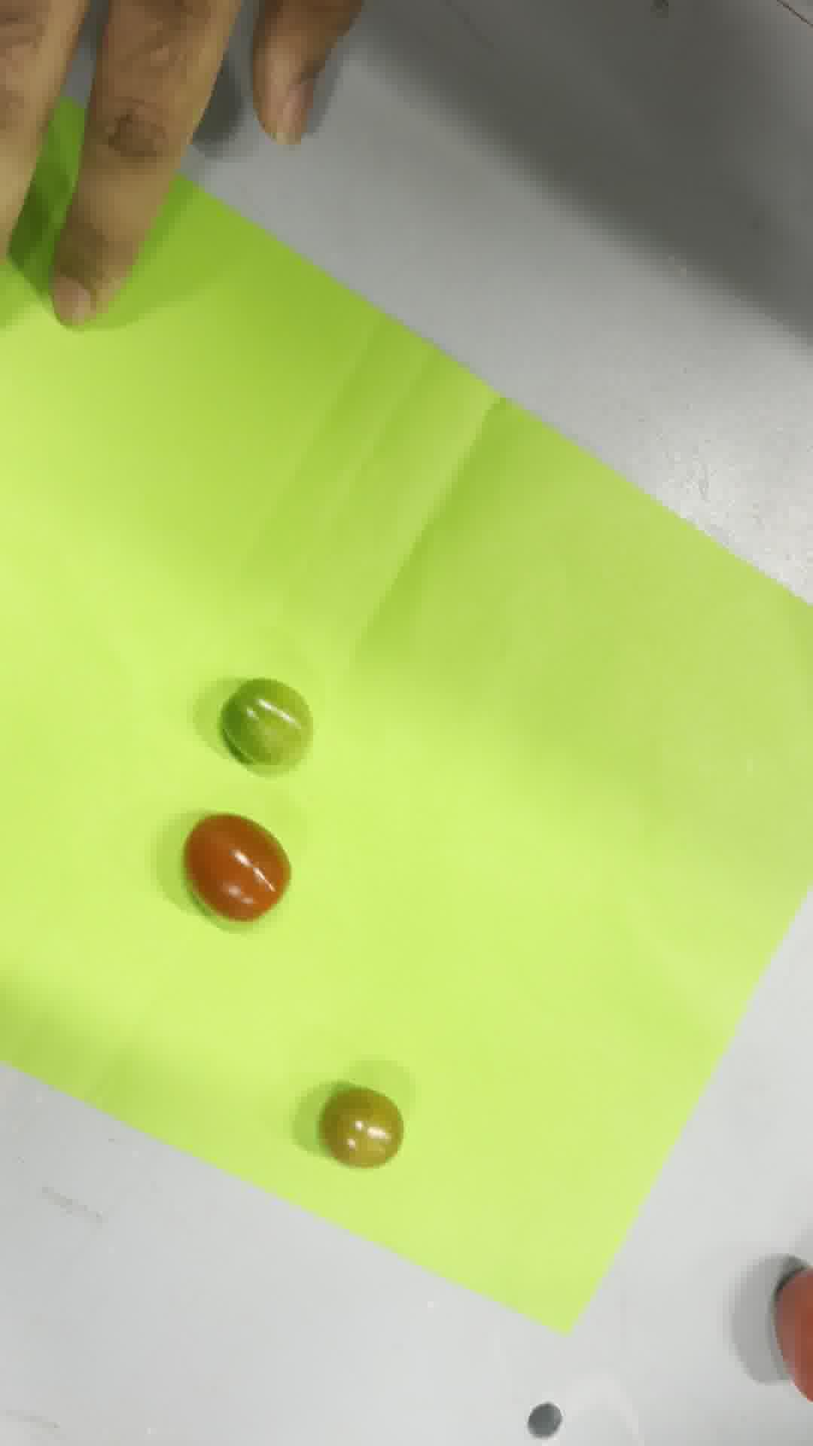green_cherry_tomato: (219, 677, 312, 774)
red_cherry_tomato: (184, 814, 290, 921)
yellow_cherry_tomato: (320, 1086, 403, 1167)
